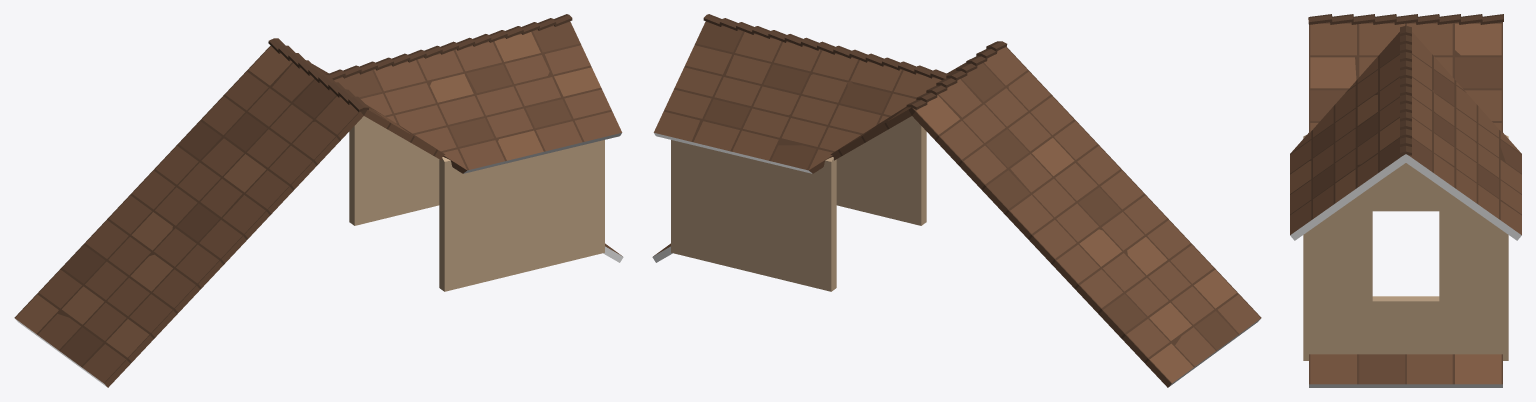
File: Roof2_C9_05.fbx
3 renders of one model, left to right at view 1: azimuth 30°, elevation 25°; view 2: azimuth 150°, elevation 25°; view 3: azimuth 270°, elevation 25°, orthographic. The views are drawn at different scales.
Visible parts, largest first — view 1: Roof2_C9_05; view 2: Roof2_C9_05; view 3: Roof2_C9_05.
Part boxes in pixels (left/top/right/bottom): Roof2_C9_05: left=14, top=14, right=623, bottom=387; Roof2_C9_05: left=652, top=14, right=1261, bottom=387; Roof2_C9_05: left=1290, top=14, right=1521, bottom=387.
Bounding box in the file's own units: 833 × 339 × 299.
